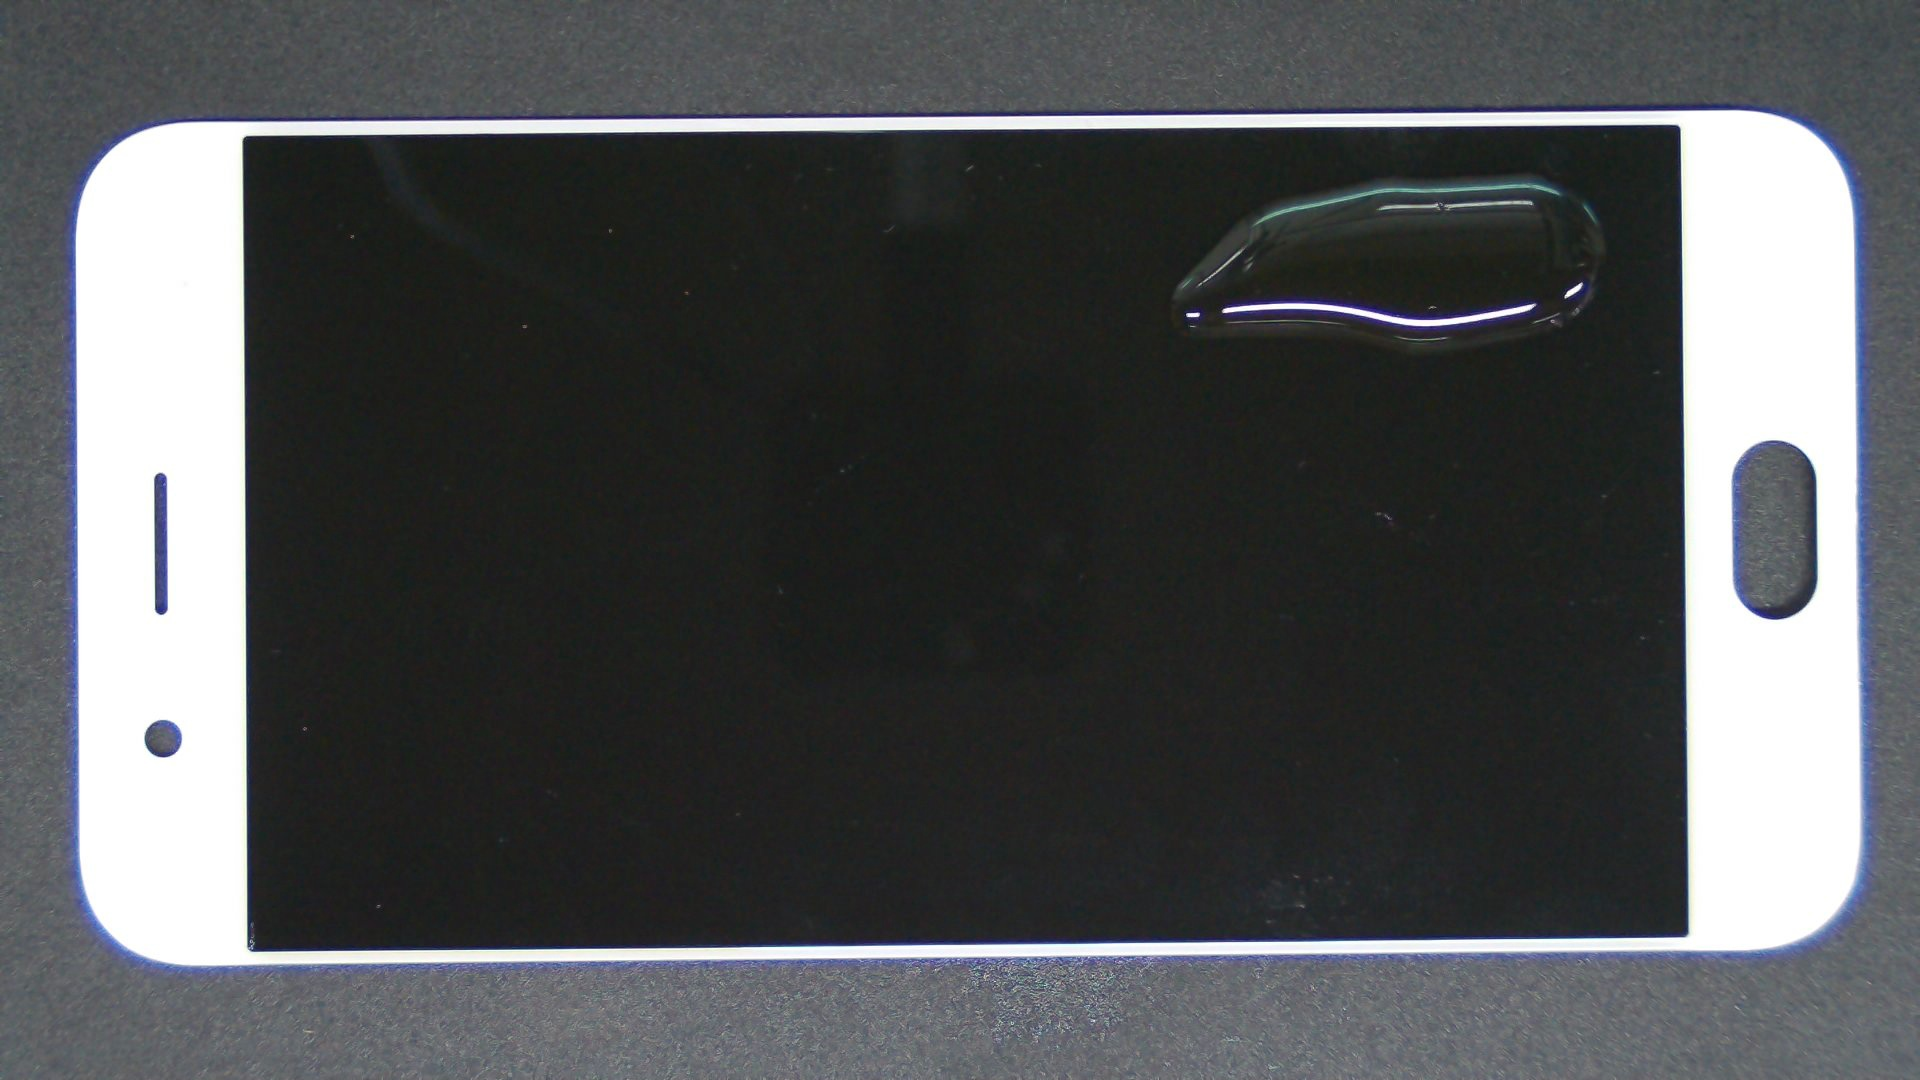oil: (766, 86, 1920, 260)
